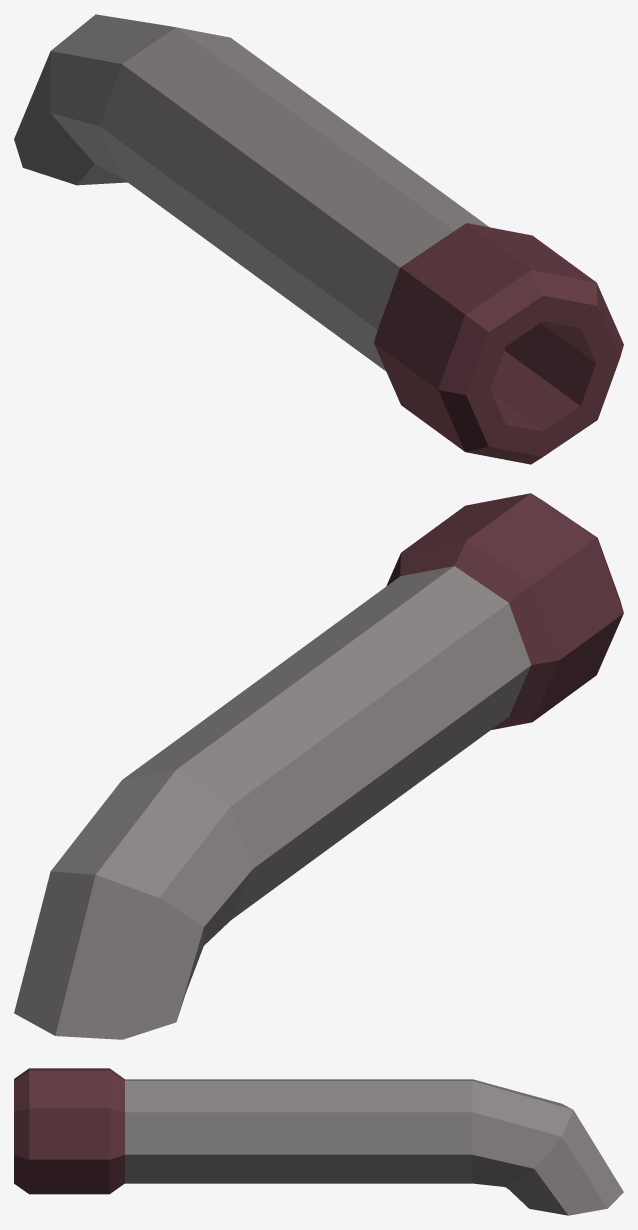
File: scifi-scifi-tube-end.glb
3 views of the same model, one above another, from view 1: azimuth 30°, elevation 25°; view 2: azimuth 150°, elevation 25°; view 3: azimuth 270°, elevation 25° (orthographic). The views are drawn at different scales.
Visible parts, largest first — view 1: scifi-tube-end; view 2: scifi-tube-end; view 3: scifi-tube-end.
Boxes of the visible parts, x1,y1,x2,y2 form: scifi-tube-end: (14, 14, 623, 464); scifi-tube-end: (14, 493, 623, 1039); scifi-tube-end: (14, 1068, 623, 1215).
Size of the model in its own units: 0.242 by 0.2422 by 1.1.
